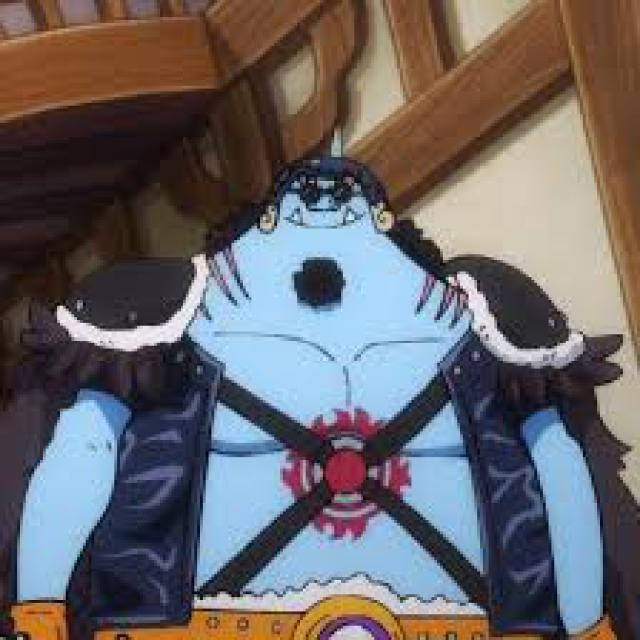Jinbe: (0, 154, 640, 640)
